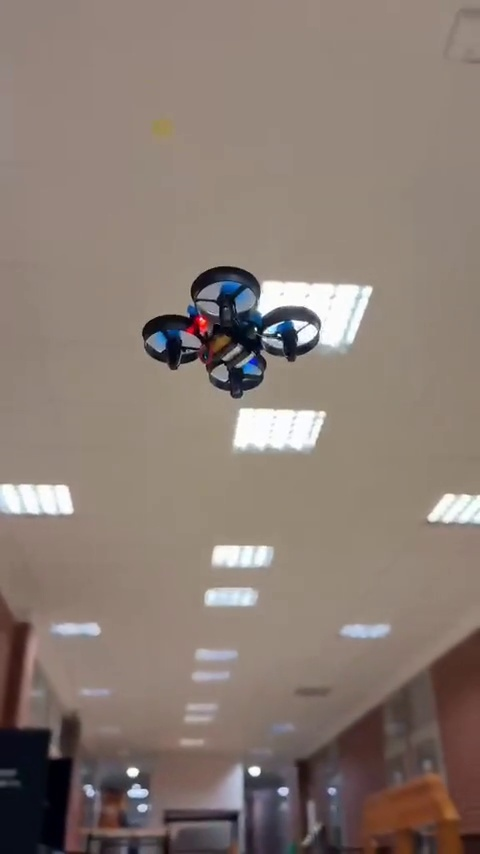drone: (140, 267, 322, 400)
